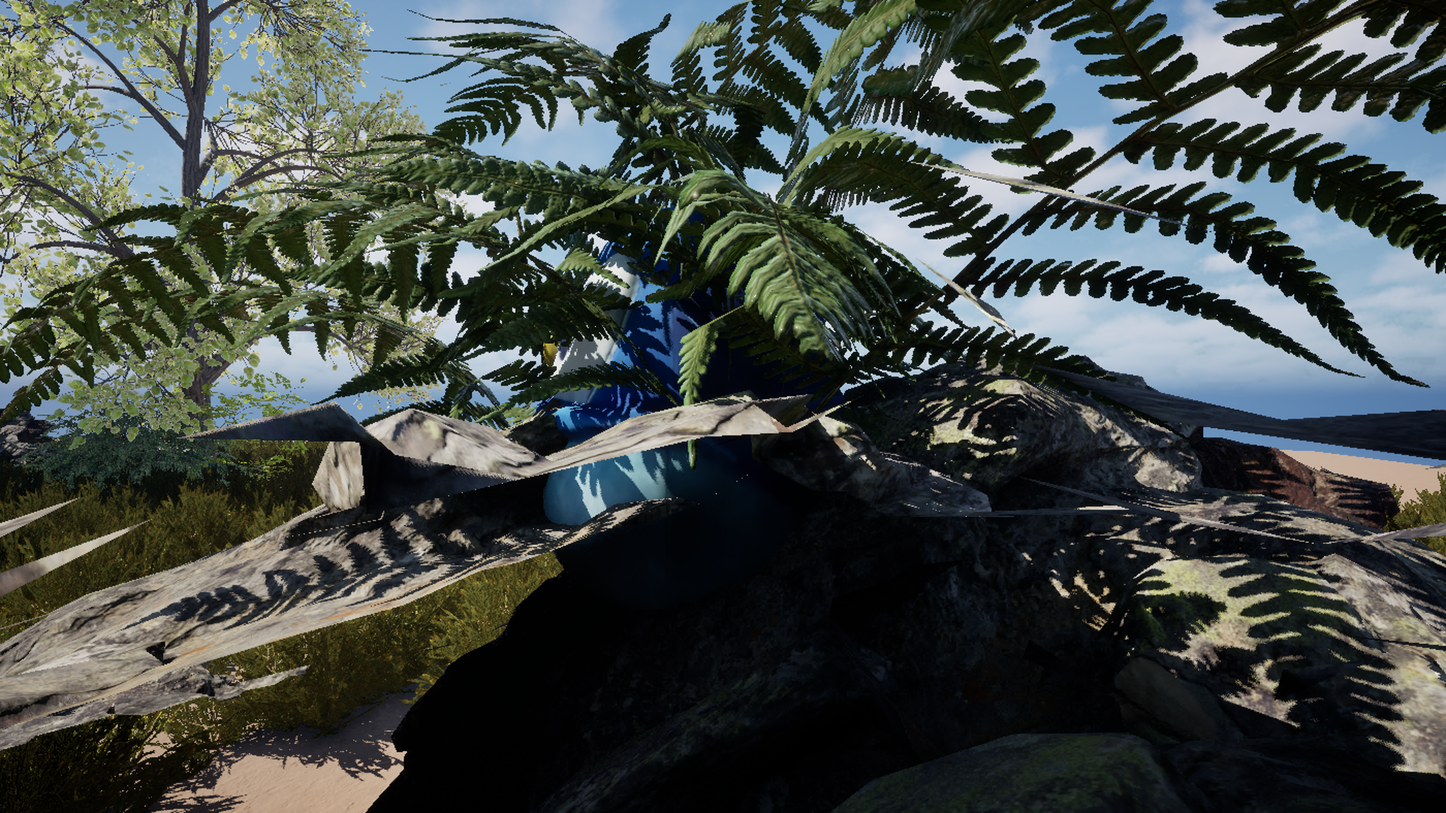Piplup: (316, 54, 995, 759)
